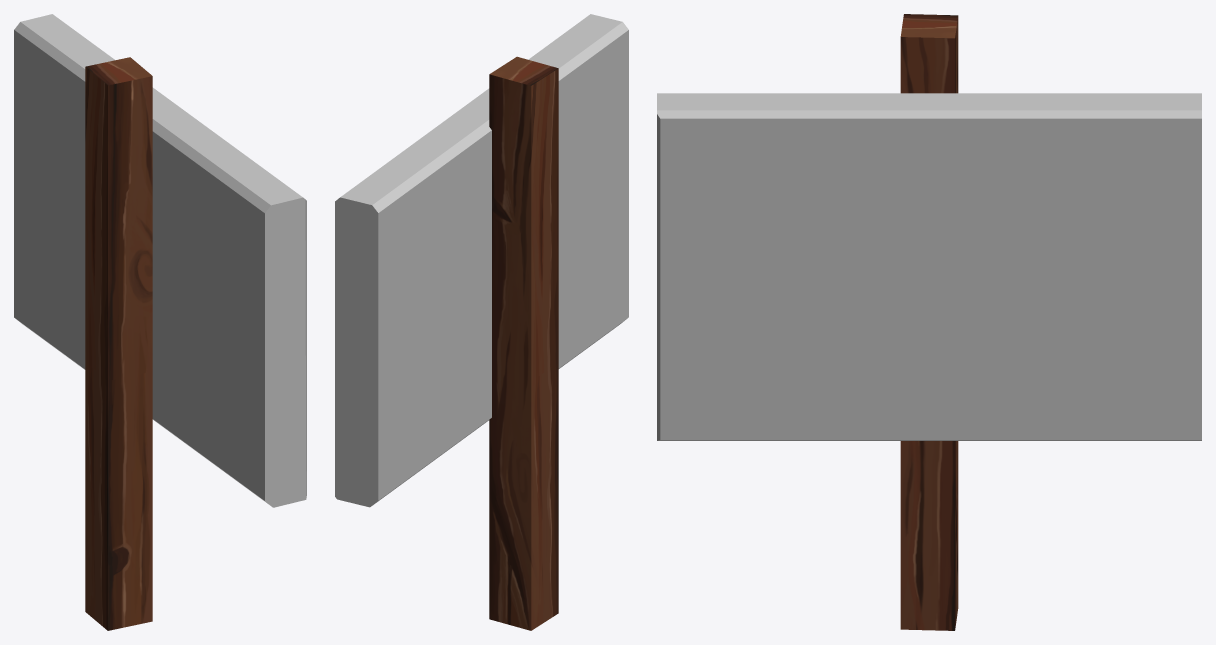
The model's file is Signpost_Mod.fbx.
The picture shows the model from 3 angles, left to right: view 1: azimuth 30°, elevation 25°; view 2: azimuth 150°, elevation 25°; view 3: azimuth 270°, elevation 25°; orthographic projection. The views are drawn at different scales.
Visible parts, largest first — view 1: Sign_Mod, SignPole_Mod; view 2: Sign_Mod, SignPole_Mod; view 3: Sign_Mod, SignPole_Mod.
Boxes of the visible parts, box(x1,y1,x2,y2) form: Sign_Mod: box(14, 14, 306, 507); SignPole_Mod: box(85, 57, 152, 630); Sign_Mod: box(335, 14, 628, 507); SignPole_Mod: box(489, 56, 558, 630); Sign_Mod: box(657, 93, 1201, 440); SignPole_Mod: box(900, 14, 958, 630).
Bounding box in the file's own units: 29.98 × 180 × 150.
